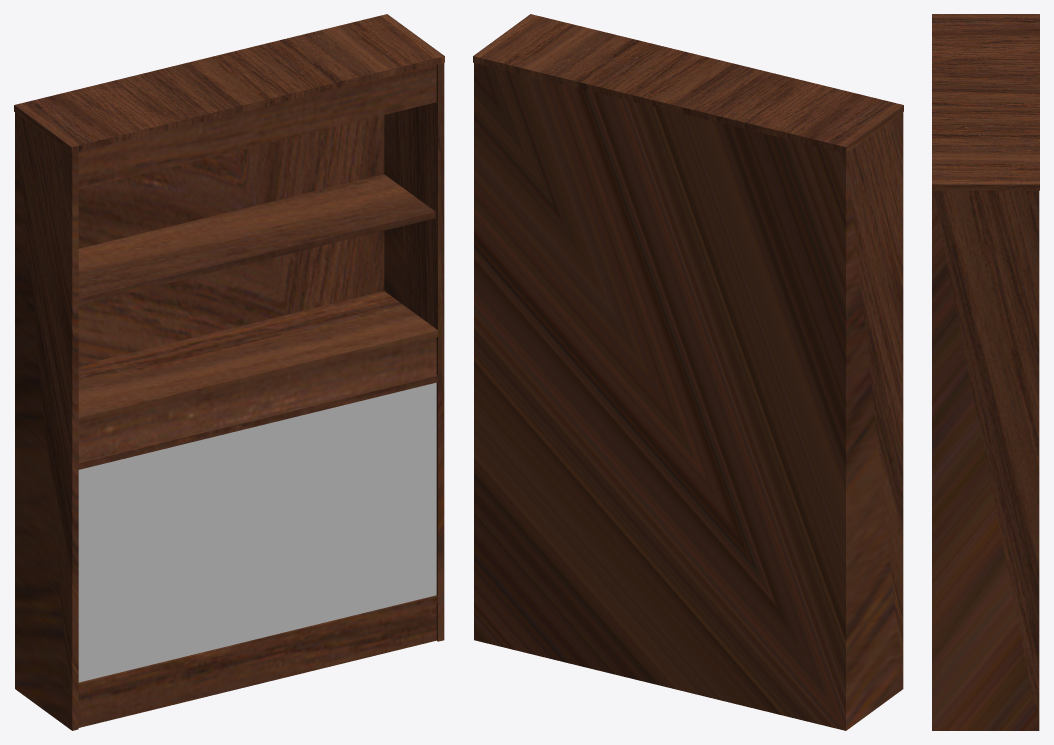
File: bookshelf.fbx
The picture shows the model from 3 angles, left to right: view 1: azimuth 30°, elevation 25°; view 2: azimuth 150°, elevation 25°; view 3: azimuth 270°, elevation 25°; orthographic projection. The views are drawn at different scales.
Parts seen in each view (by area): view 1: shelf, door_R, door_L; view 2: shelf; view 3: shelf.
Boxes of the visible parts, x1=… form: shelf: x1=14, y1=14, x2=444, y2=730; door_R: x1=257, y1=382, x2=436, y2=638; door_L: x1=78, y1=426, x2=256, y2=682; shelf: x1=473, y1=14, x2=903, y2=730; shelf: x1=932, y1=14, x2=1039, y2=730.
Size of the model in its own units: 593 by 886 by 158.
2 materials, 1 textured.
